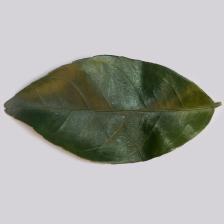healthy: (18, 59, 210, 154)
